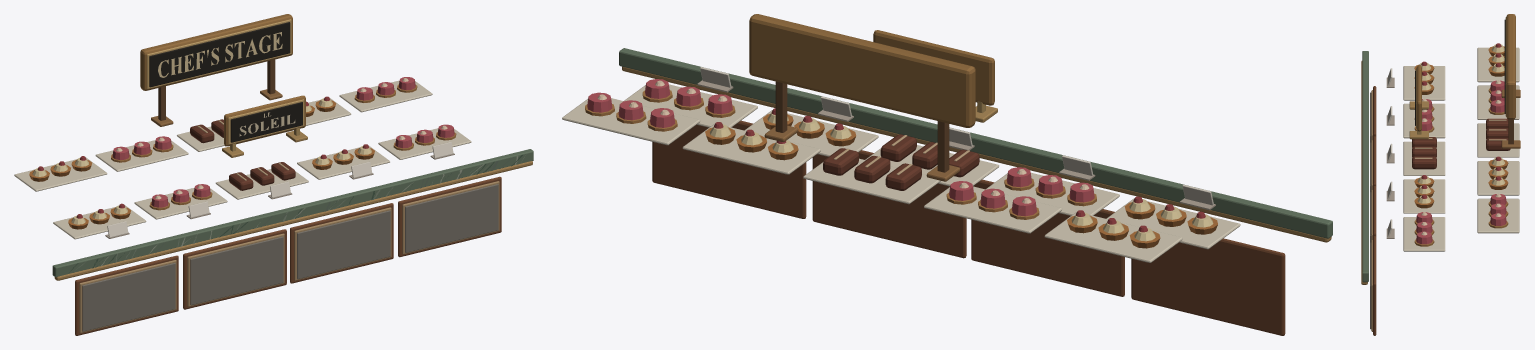
File: counter.glb
3 renders of one model, left to right at view 1: azimuth 30°, elevation 25°; view 2: azimuth 150°, elevation 25°; view 3: azimuth 270°, elevation 25°, orthographic. The views are drawn at different scales.
Parts seen in each view (by area): view 1: SweetParkChefsStage; view 2: SweetParkChefsStage; view 3: SweetParkChefsStage.
Part boxes in pixels (x1,y1,x2,y2): SweetParkChefsStage: (14,14,533,335); SweetParkChefsStage: (562,14,1332,335); SweetParkChefsStage: (1361,14,1520,335).
Bounding box in the file's own units: 4.12 × 1.64 × 1.25.
